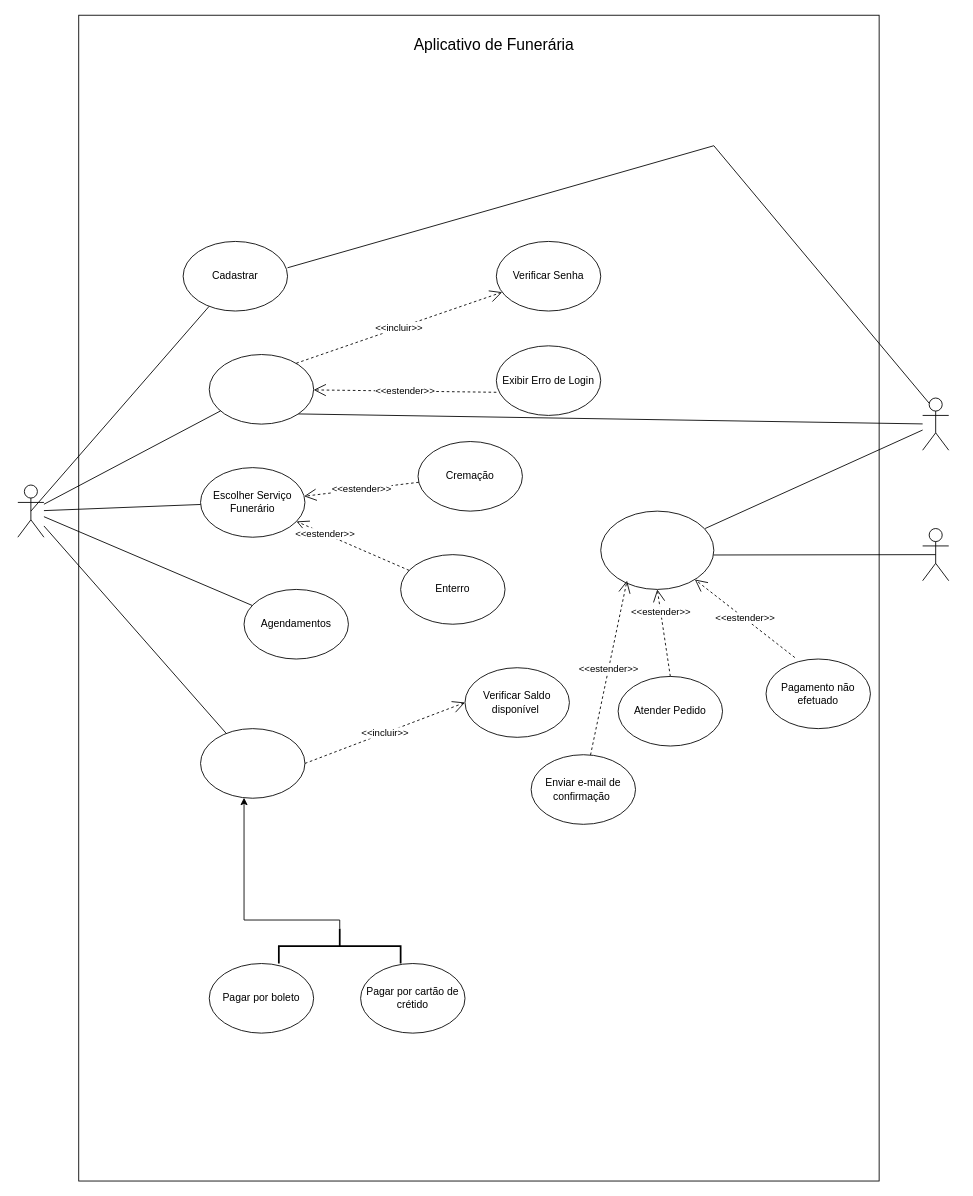
Image size: 973x1196. Some labels were removed from this diagram. Here are the shapes that lost their labels. From the top down, the centre of each, then its label:
At point 261,389: "Fazer Login".
At point 935,423: "Funerária".
At point 30,510: "Cliente".
At point 657,549: "Verificar Pagamento".
At point 935,554: "Sistema".
At point 252,763: "Fazer Pagamento".
